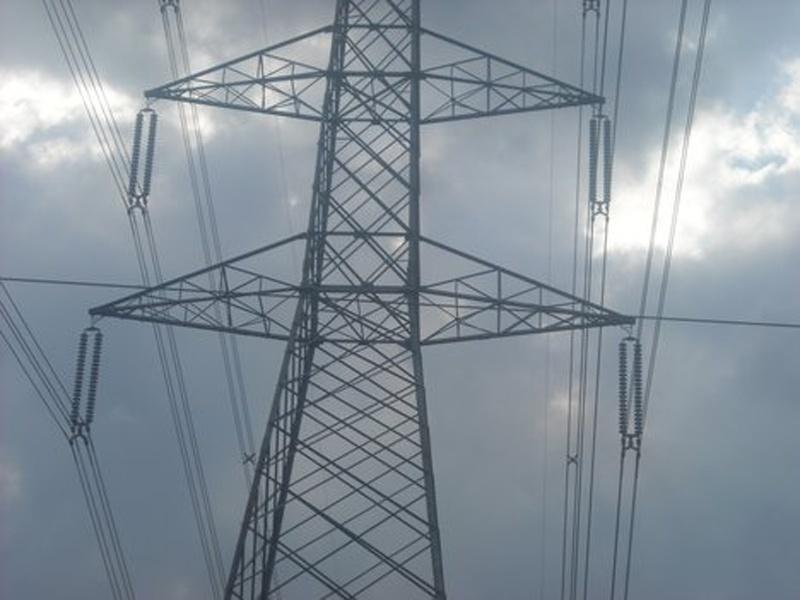power_tower: (128, 4, 526, 594)
